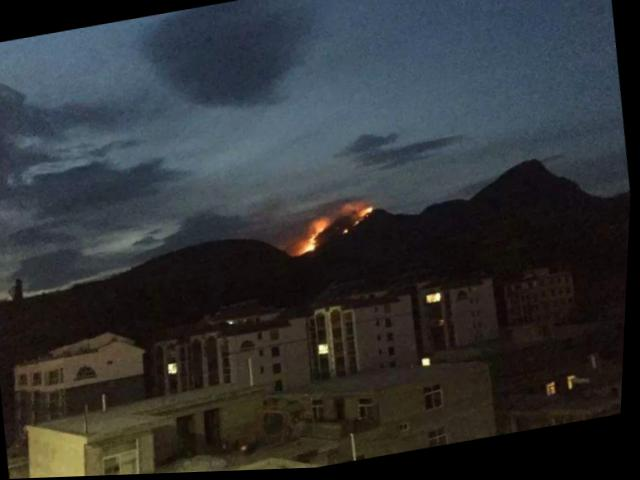fire: (289, 201, 386, 256)
